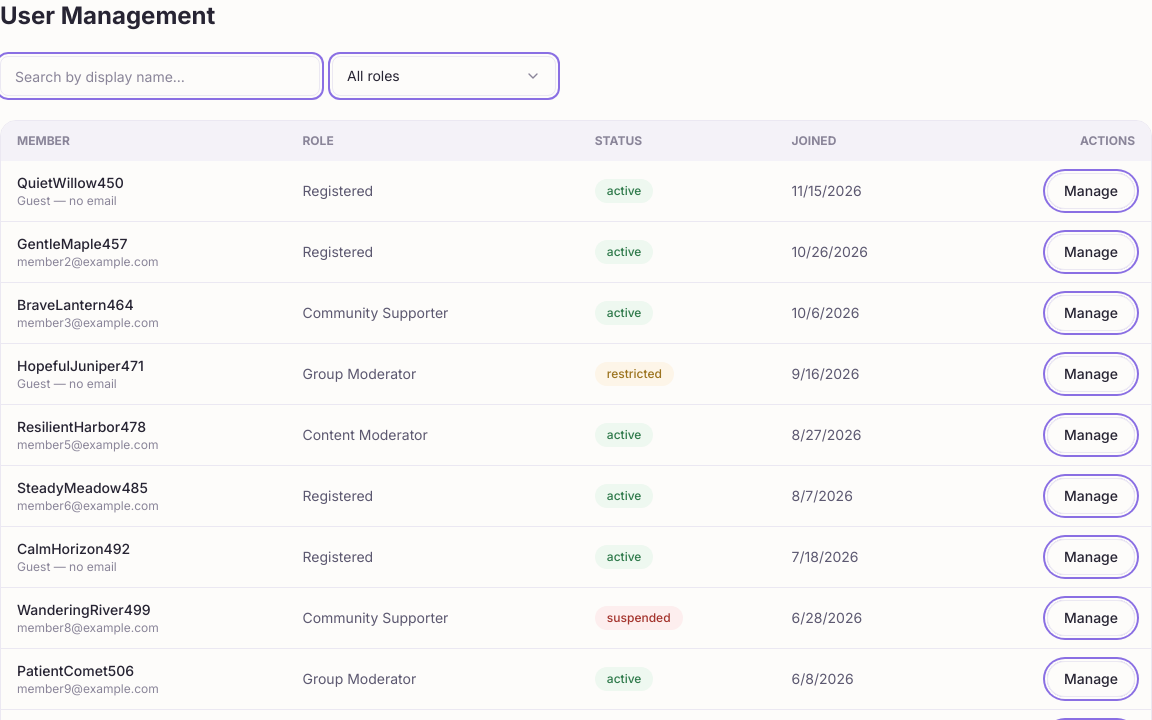
Test: UserManagementPage › lets an admin open the manage dialog and see role/status controls
This screenshot has width=1152, height=720.
Click the 1st button "Manage": [1091, 191] box [1047,173,1135,209]
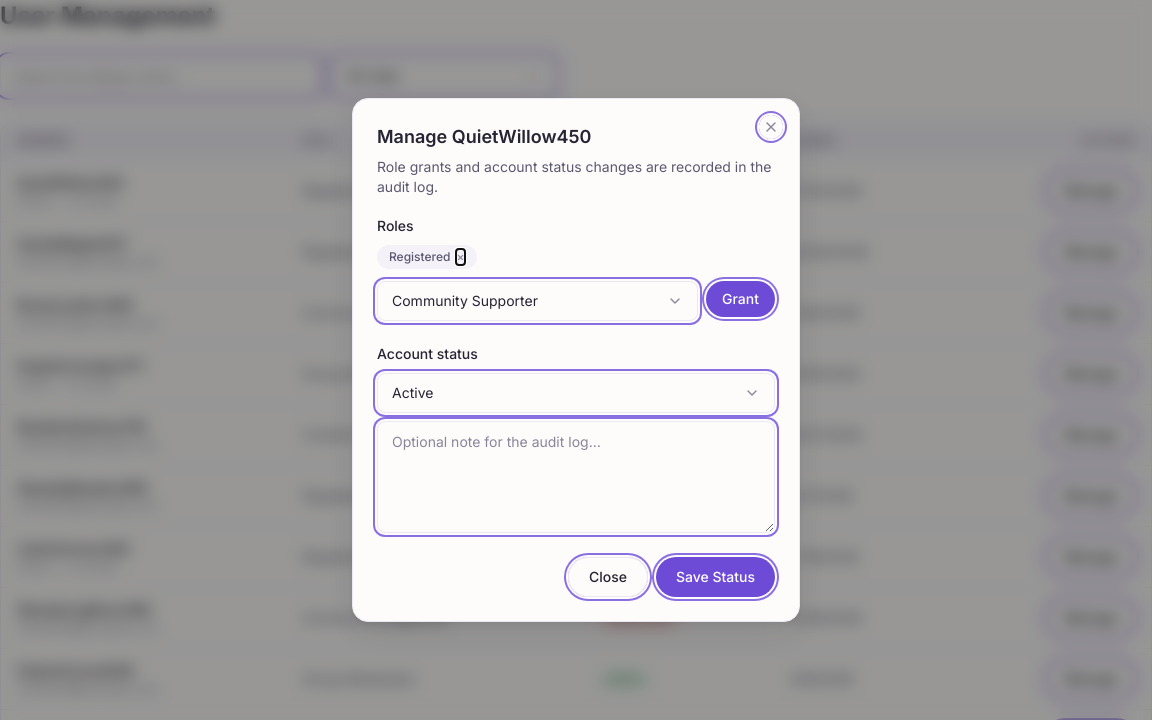
Expected: the text "Account status" is shown, [377,345,478,362]
Expected: the button "Save Status" is shown, [656,557,775,597]
